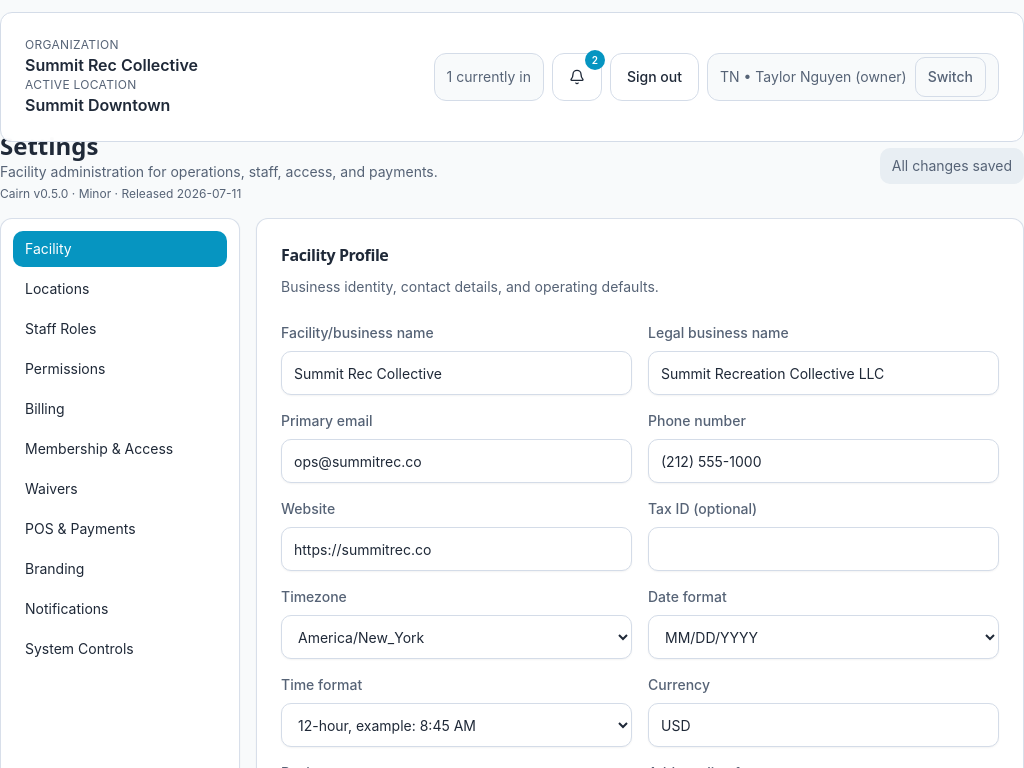
Settings system MVP › warns about unsaved changes when switching settings section
This screenshot has width=1024, height=768.
Click the button "Switch" at (950, 77), box [915,57,986,97]
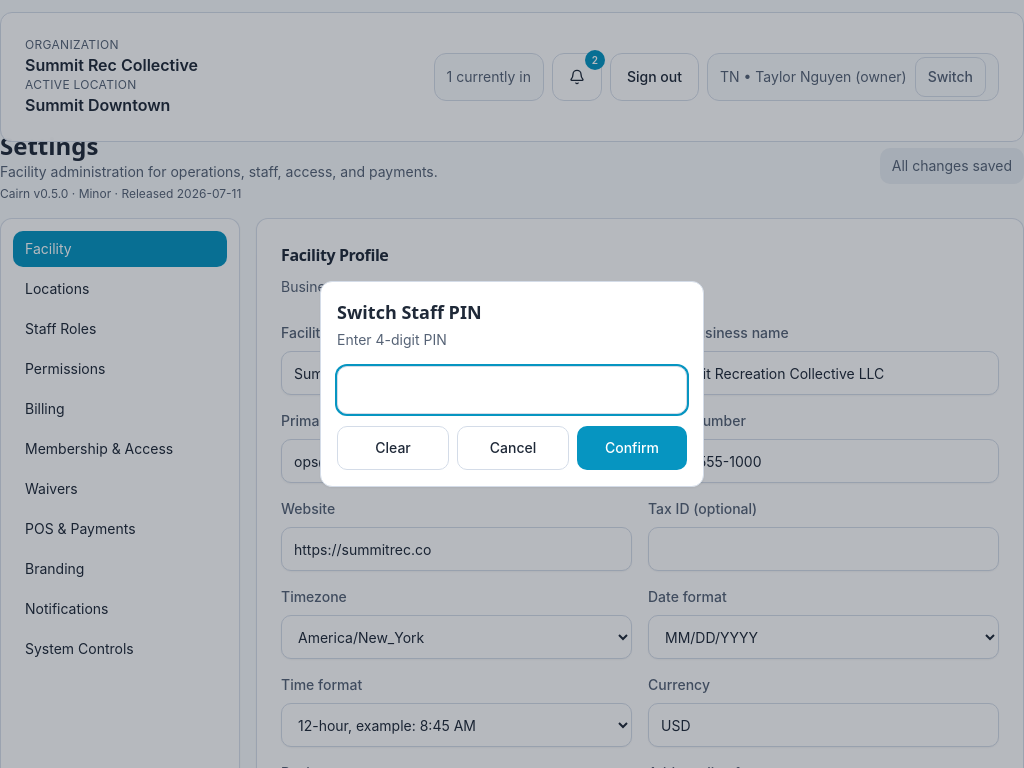
Type "1111" into the password field named "Staff PIN input" at (512, 390), box [337,366,687,414]
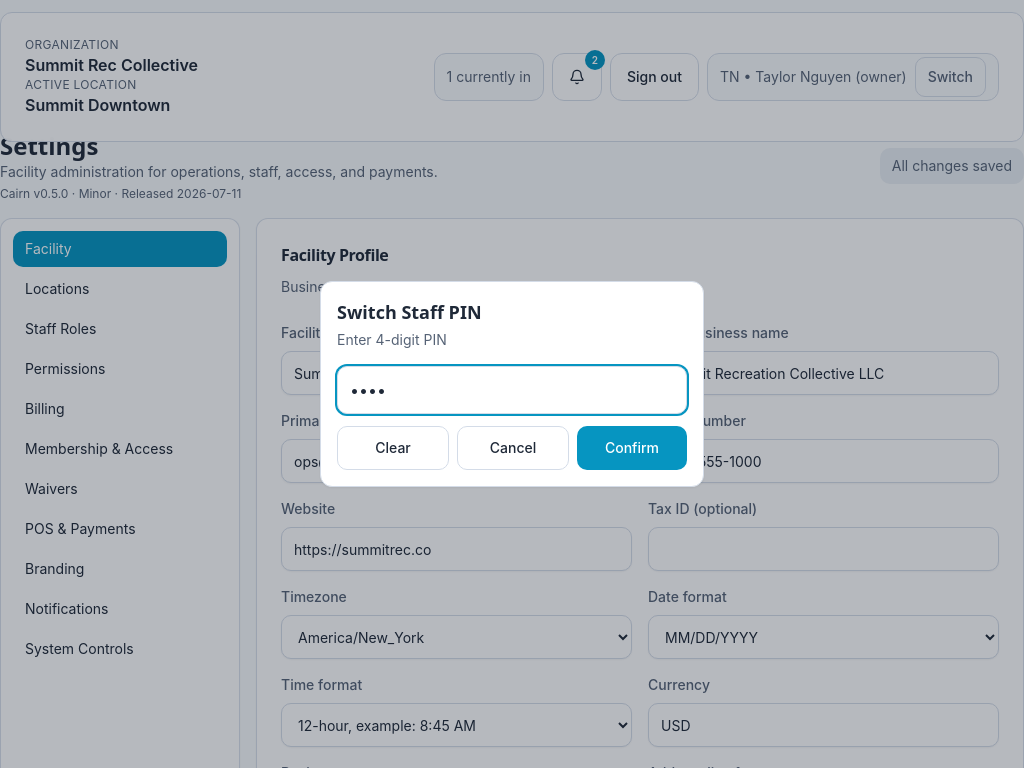
Click the button "Confirm" at (632, 448), box [577,426,687,470]
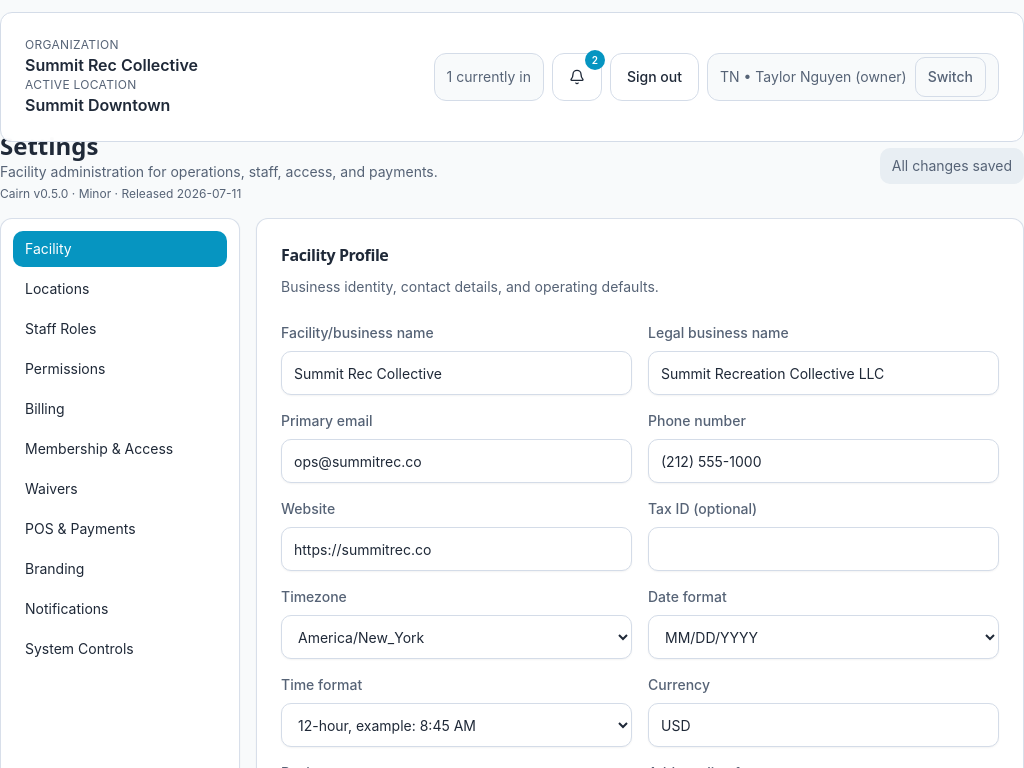
Replace the text in the field labelled "Facility/business name" with "Summit Rec Updated" at (456, 373), box [281,351,632,395]
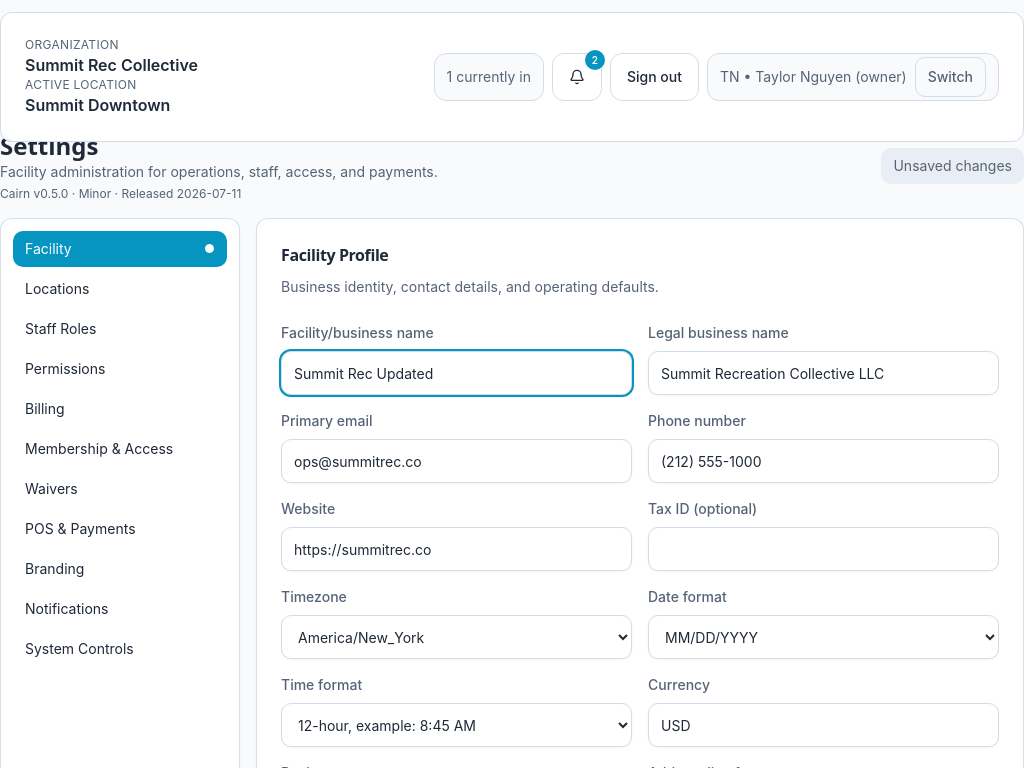
Click the button "Locations" at (120, 289), box [13,271,227,307]
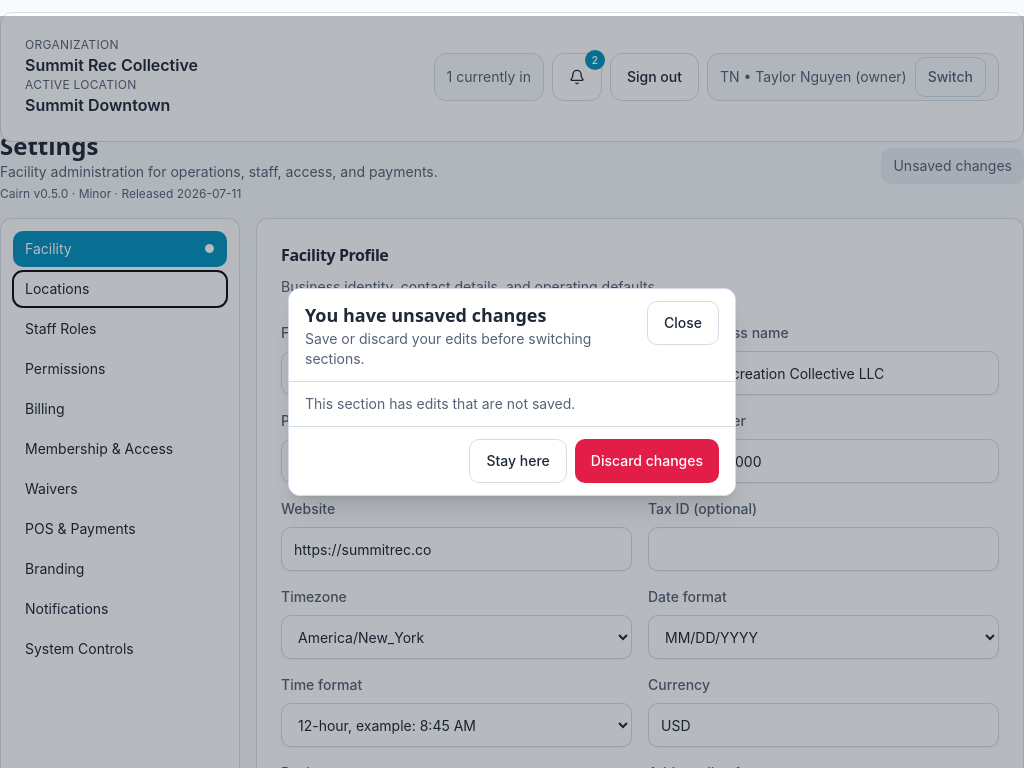
Expected: the dialog named "Unsaved changes warning" is shown
